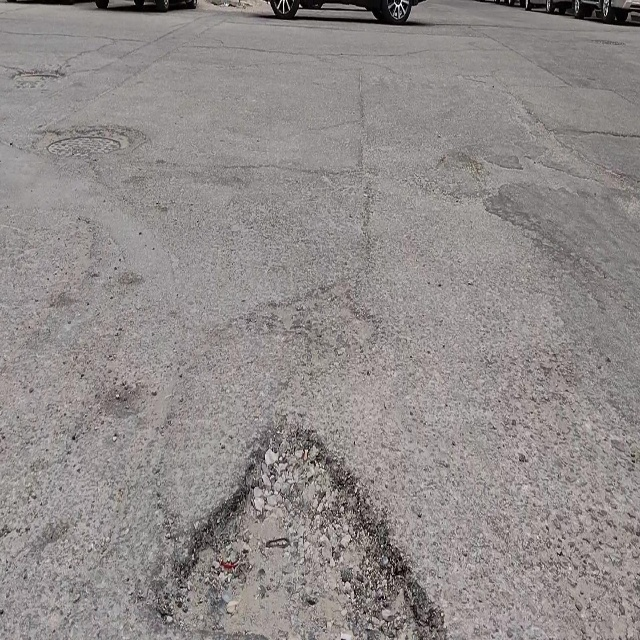pothole: (156, 426, 441, 640)
